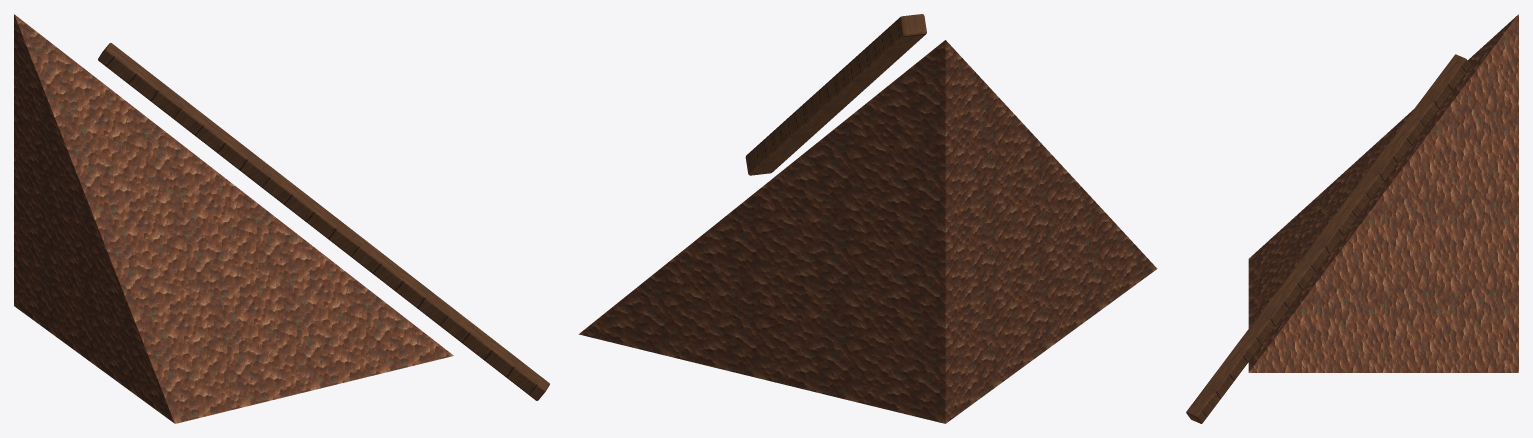
File: roof_45_outer__copper_ingot.glb
3 renders of one model, left to right at view 1: azimuth 30°, elevation 25°; view 2: azimuth 150°, elevation 25°; view 3: azimuth 270°, elevation 25°, orthographic. The views are drawn at different scales.
Parts seen in each view (by area): view 1: model; view 2: model; view 3: model.
Boxes of the visible parts, <box> form: model: <box>14,14,549,423</box>; model: <box>578,14,1157,423</box>; model: <box>1186,14,1518,423</box>.
Bounding box in the file's own units: 2.46 × 2.22 × 2.46.
Materials: 2 (2 with a texture image).
